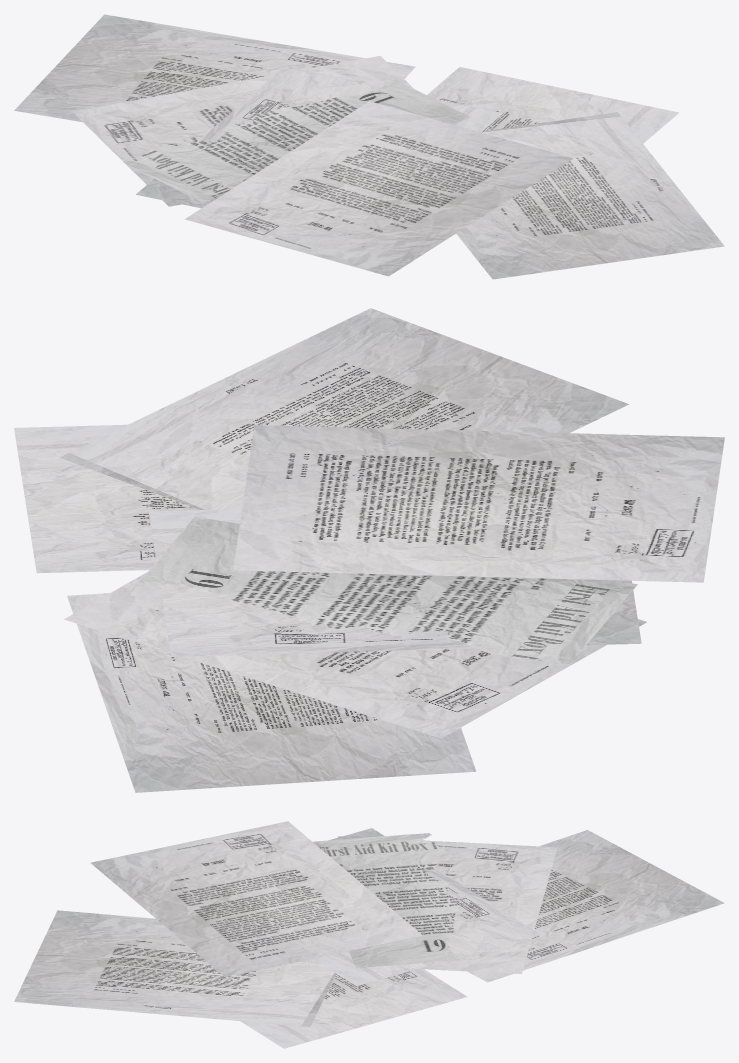
The model's file is Paperwork.fbx.
The picture shows the model from 3 angles, top to bottom: view 1: azimuth 30°, elevation 25°; view 2: azimuth 150°, elevation 25°; view 3: azimuth 270°, elevation 25°; orthographic projection. The views are drawn at different scales.
Parts seen in each view (by area): view 1: polySurface312, polySurface310, polySurface308, polySurface329, polySurface309, polySurface311, polySurface313; view 2: polySurface312, polySurface310, polySurface308, polySurface329, polySurface309, polySurface311, polySurface313; view 3: polySurface312, polySurface310, polySurface308, polySurface329, polySurface309, polySurface311, polySurface313.
Boxes of the visible parts, x1=… form: polySurface312: x1=185, y1=101, x2=573, y2=276; polySurface310: x1=456, y1=112, x2=724, y2=279; polySurface308: x1=14, y1=14, x2=415, y2=122; polySurface329: x1=123, y1=71, x2=470, y2=204; polySurface309: x1=73, y1=55, x2=413, y2=206; polySurface311: x1=427, y1=67, x2=678, y2=143; polySurface313: x1=136, y1=67, x2=502, y2=208; polySurface312: x1=233, y1=425, x2=724, y2=582; polySurface310: x1=60, y1=308, x2=629, y2=509; polySurface308: x1=67, y1=593, x2=476, y2=792; polySurface329: x1=127, y1=517, x2=637, y2=664; polySurface309: x1=64, y1=572, x2=646, y2=738; polySurface311: x1=14, y1=424, x2=199, y2=573; polySurface313: x1=148, y1=509, x2=641, y2=656; polySurface312: x1=90, y1=821, x2=422, y2=976; polySurface310: x1=14, y1=910, x2=335, y2=1026; polySurface308: x1=467, y1=830, x2=724, y2=982; polySurface329: x1=313, y1=833, x2=482, y2=968; polySurface309: x1=303, y1=836, x2=557, y2=974; polySurface311: x1=240, y1=969, x2=467, y2=1048; polySurface313: x1=313, y1=828, x2=539, y2=986.
Size of the model in its own units: 2.84 by 0.0648 by 3.9.
